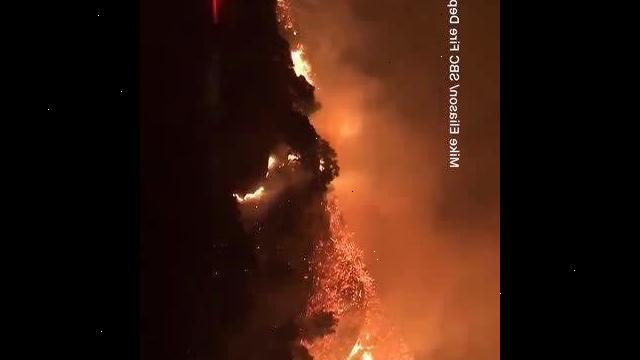fire: (193, 135, 425, 360), (207, 0, 349, 104)
